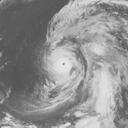cyclone: (43, 47, 85, 90)
